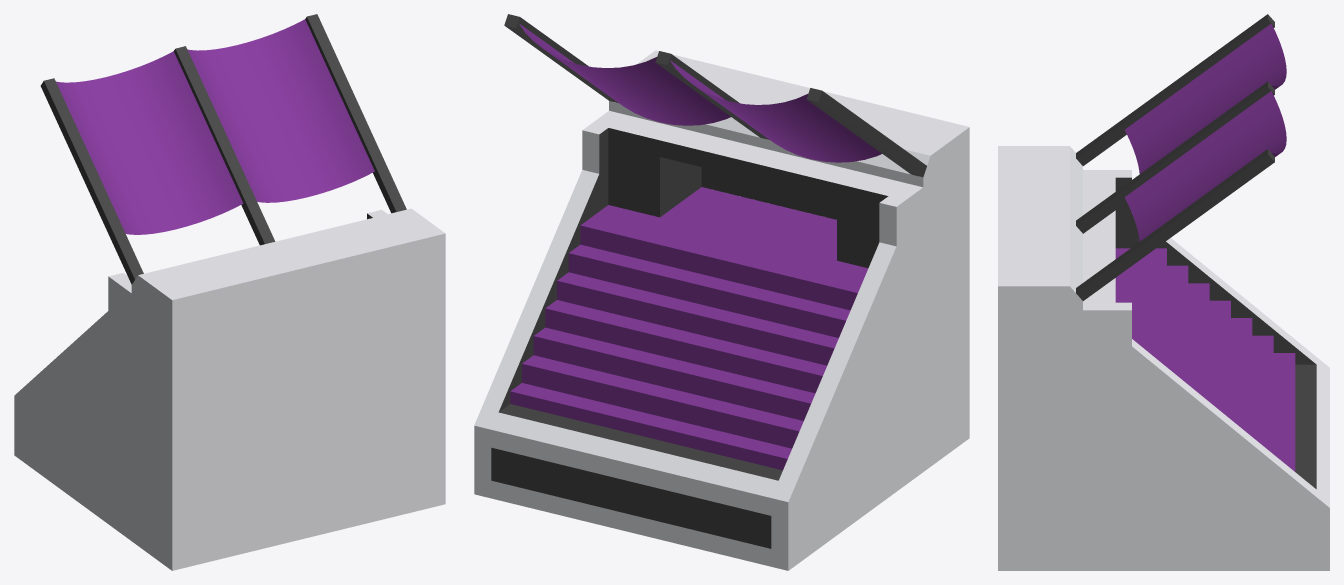
Rendered from grand-stand-awning.glb.
3 views of the same model, side by side, from view 1: azimuth 30°, elevation 25°; view 2: azimuth 150°, elevation 25°; view 3: azimuth 270°, elevation 25° (orthographic). The views are drawn at different scales.
Visible parts, largest first — view 1: grandStandAwning; view 2: grandStandAwning; view 3: grandStandAwning.
Boxes of the visible parts, x1,y1,x2,y2 form: grandStandAwning: (14, 14, 445, 570); grandStandAwning: (474, 14, 969, 570); grandStandAwning: (998, 14, 1329, 570).
Bounding box in the file's own units: 1 × 1.39 × 1.
